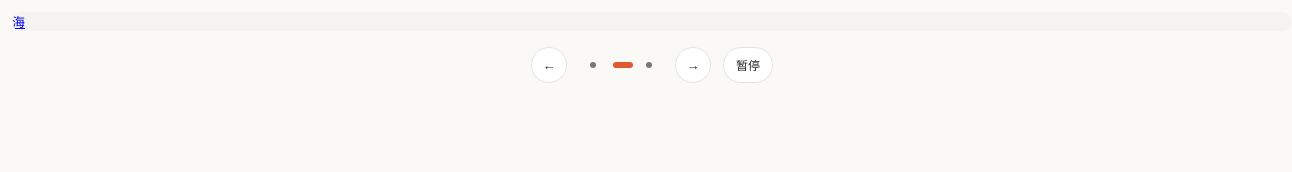
Test: autoplay pauses for hover, focus, and explicit pause
Check: the link reads "海", box [12,14,25,31]
Hover over the element showing "海 ← → 暂停" at (652, 48), box [12,12,1291,83]
Check: the link reads "海", box [12,14,25,31]
Focus the element showing "海 ← → 暂停" at (652, 48), box [12,12,1291,83]
Check: the link reads "海", box [12,14,25,31]
Click the button named "暂停自动播放" at (748, 65), box [723,47,773,83]
Wait 2000 ms
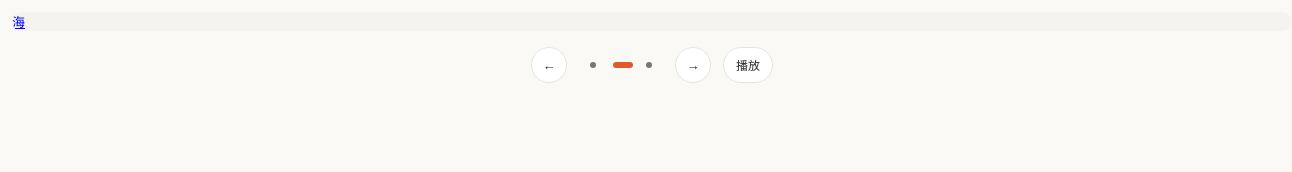
Check: the link reads "海", box [12,14,25,31]
Click the button named "继续自动播放" at (748, 65), box [723,47,773,83]
Wait 1000 ms
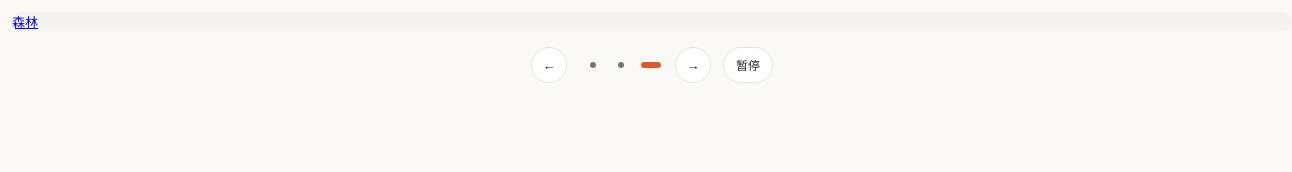
Check: the link reads "森林", box [12,14,38,31]
